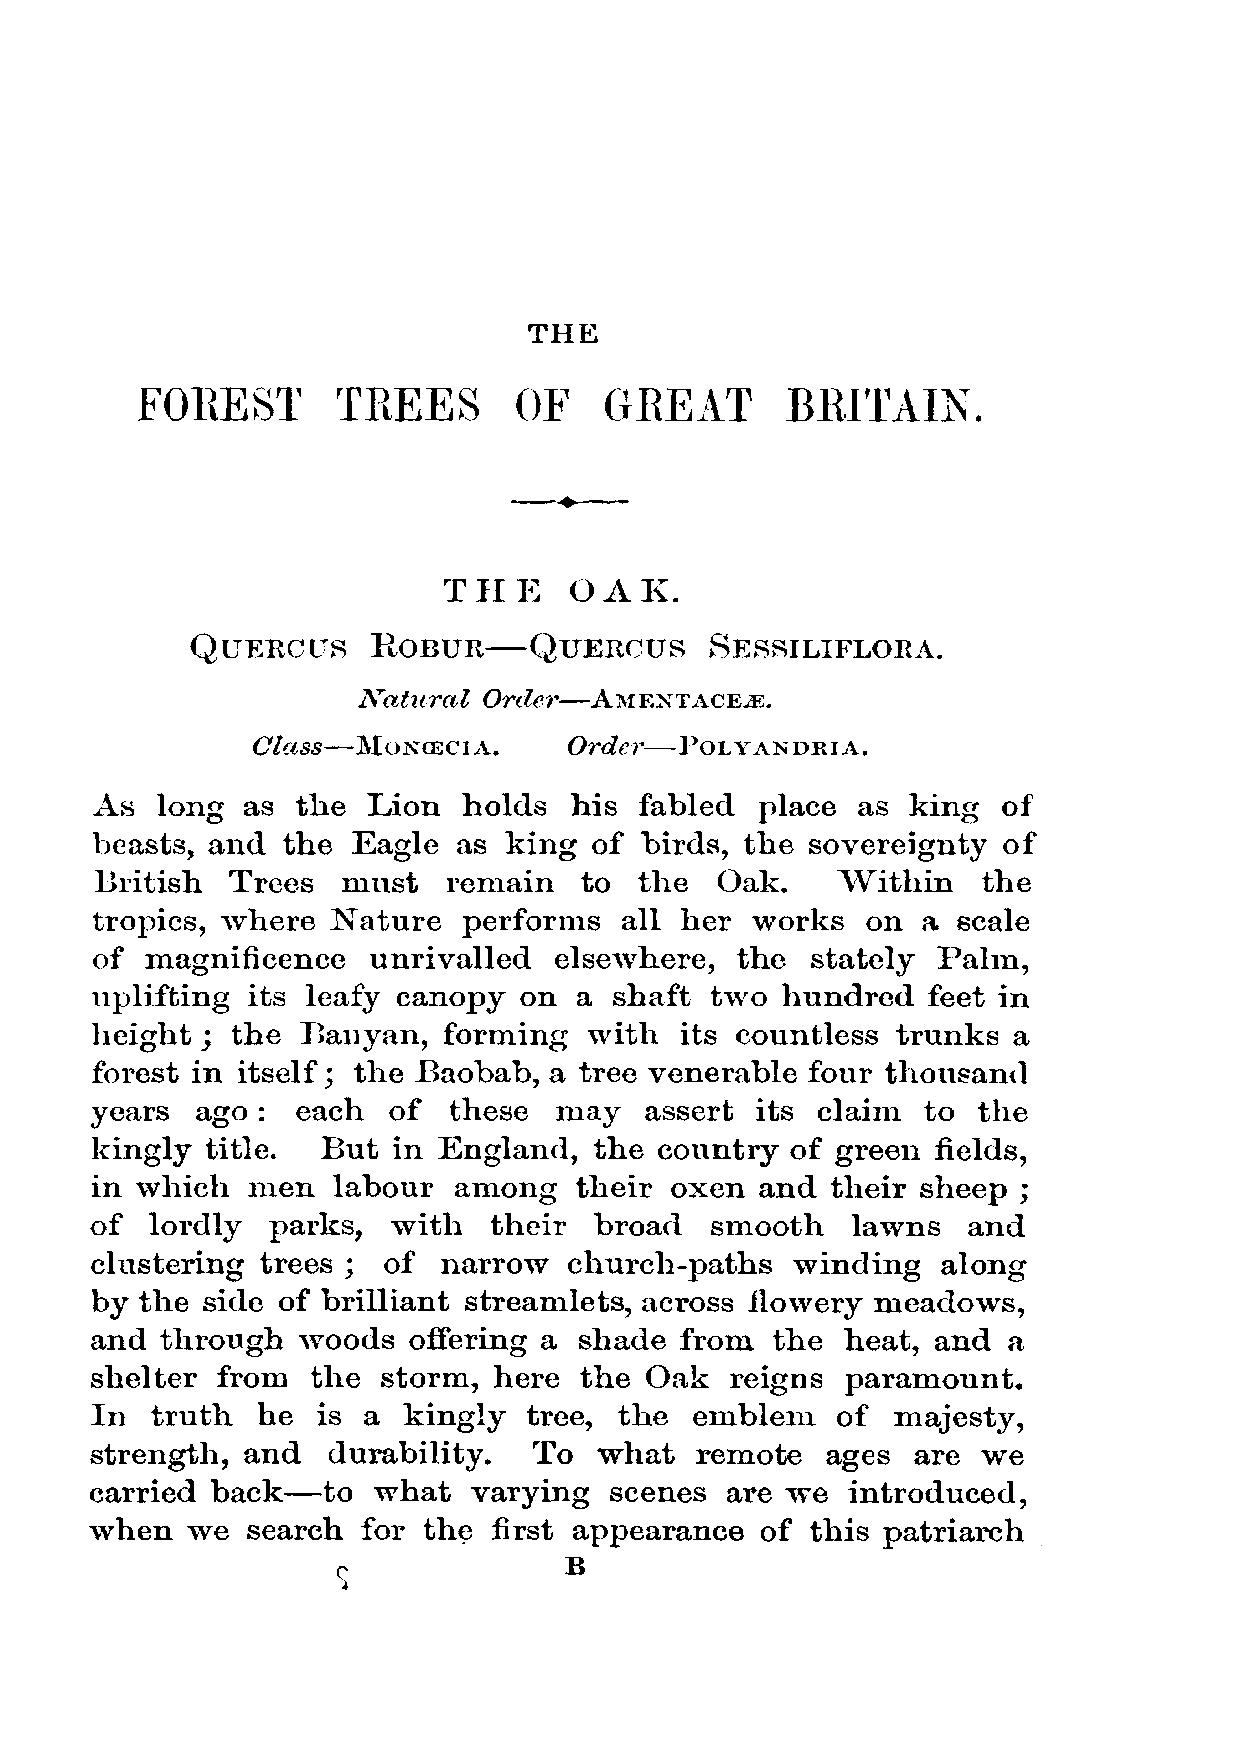chapter: (187, 576, 941, 757), (136, 322, 986, 424)
content: (86, 790, 1033, 1550)
content_pagenumber: (564, 1554, 588, 1584)
